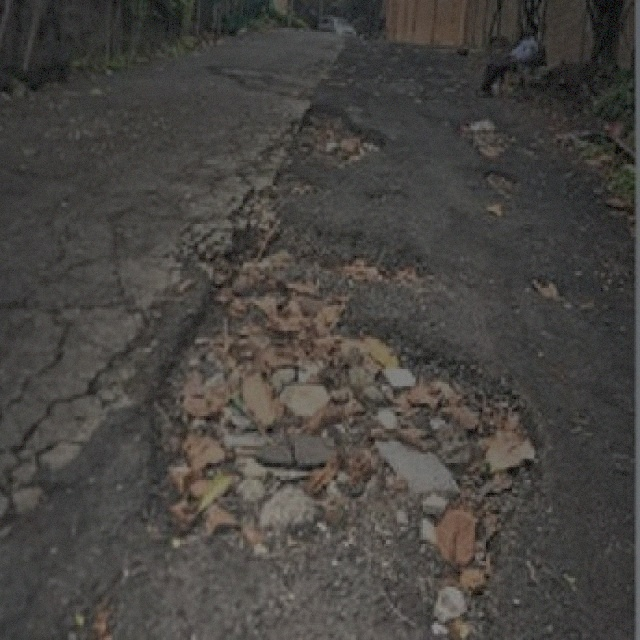pothole: (135, 217, 546, 638), (286, 105, 390, 167), (452, 111, 516, 154), (482, 164, 518, 194)
